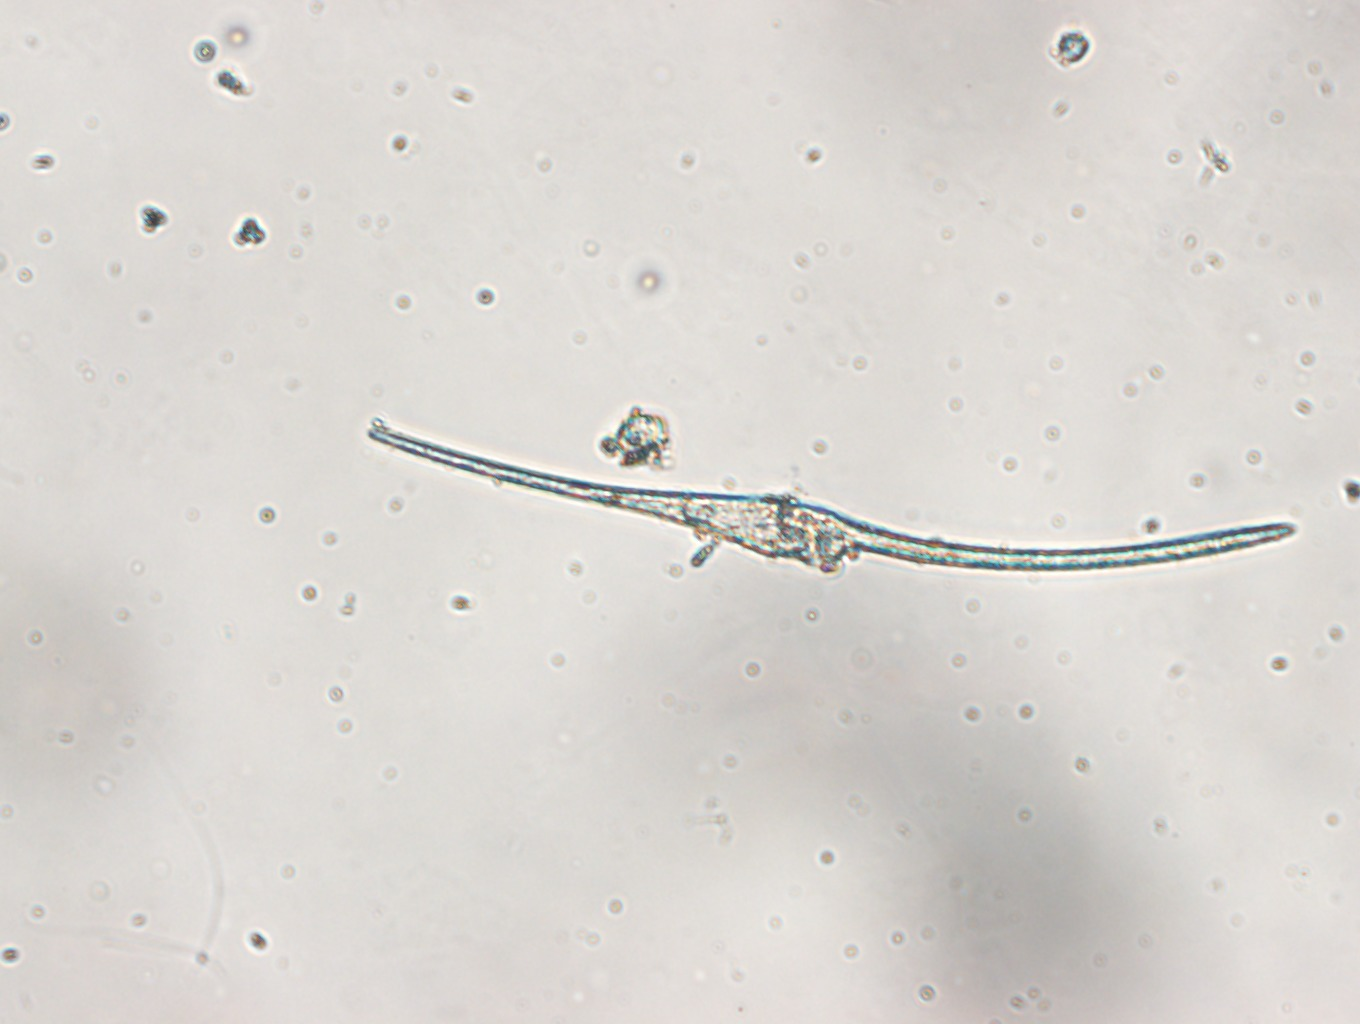ceratium fusus: (364, 409, 1303, 607)
